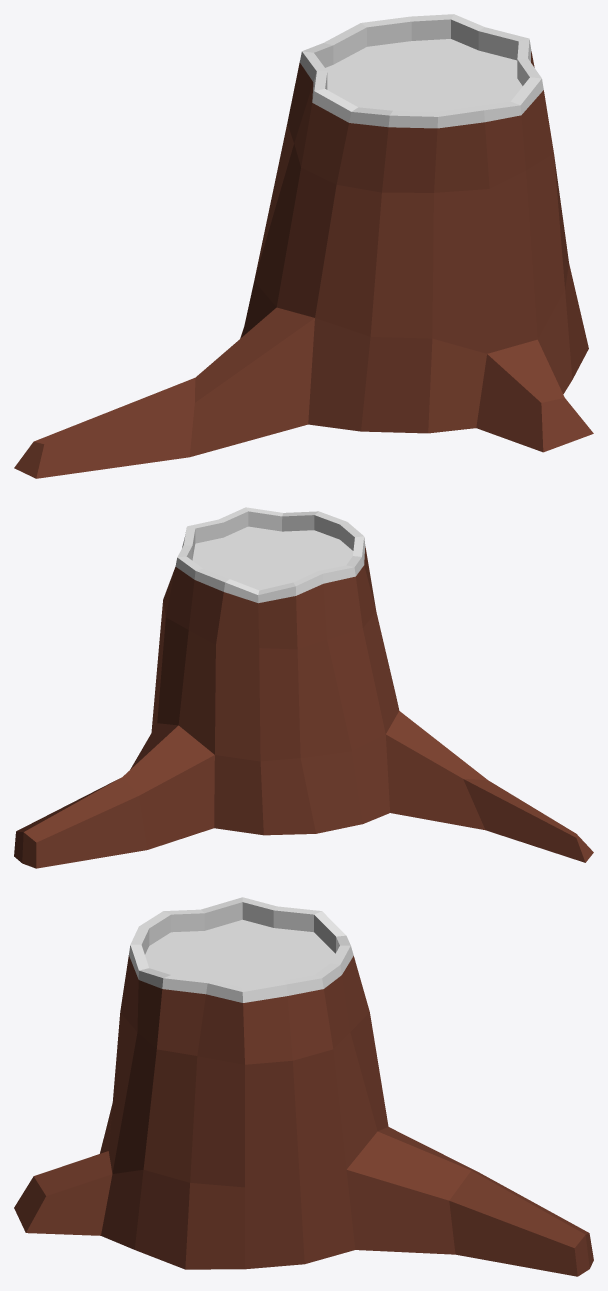
Rendered from pine_trunk_type_2_extra_LOD0.fbx.
3 renders of one model, top to bottom at view 1: azimuth 30°, elevation 25°; view 2: azimuth 150°, elevation 25°; view 3: azimuth 270°, elevation 25°, orthographic. The views are drawn at different scales.
Parts seen in each view (by area): view 1: pt_type_2_extra; view 2: pt_type_2_extra; view 3: pt_type_2_extra.
Part boxes in pixels (box(x1,y1,x2,y2)): pt_type_2_extra: box(14, 14, 593, 478); pt_type_2_extra: box(14, 507, 593, 868); pt_type_2_extra: box(14, 897, 593, 1276).
Bounding box in the file's own units: 368 × 196 × 372.
